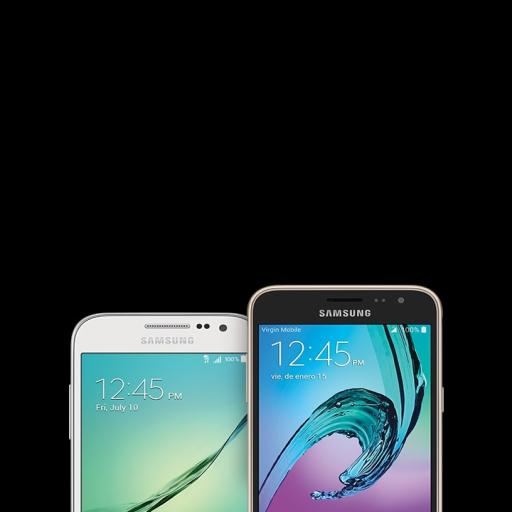phone: (243, 283, 449, 512)
